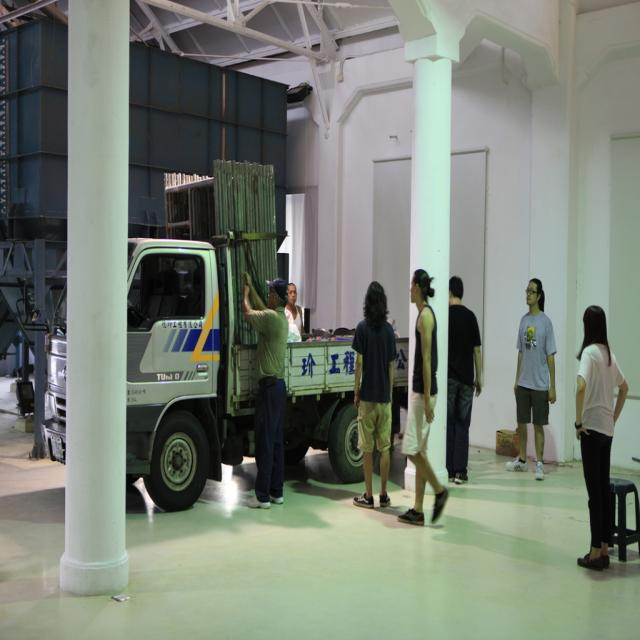Heavy Duty Truck: (36, 239, 440, 513)
Pedestrians: (575, 302, 629, 574), (397, 268, 450, 527), (242, 276, 298, 518), (504, 276, 557, 484), (350, 279, 395, 513), (446, 275, 486, 488)
